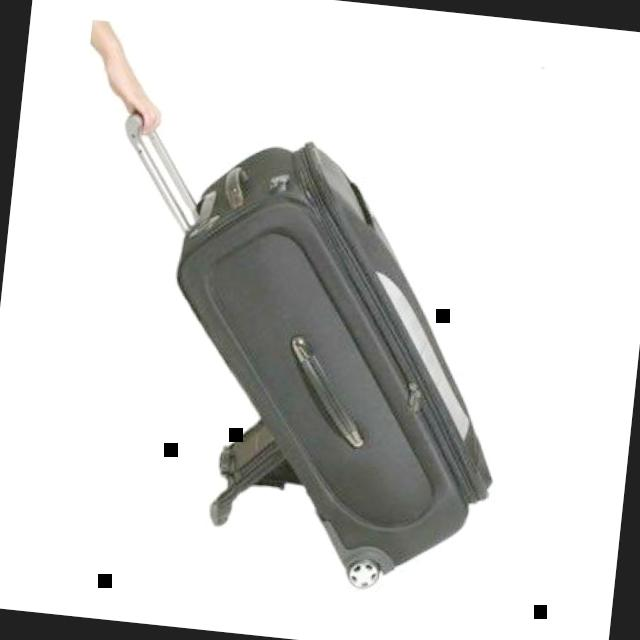luggage: (141, 127, 528, 603)
